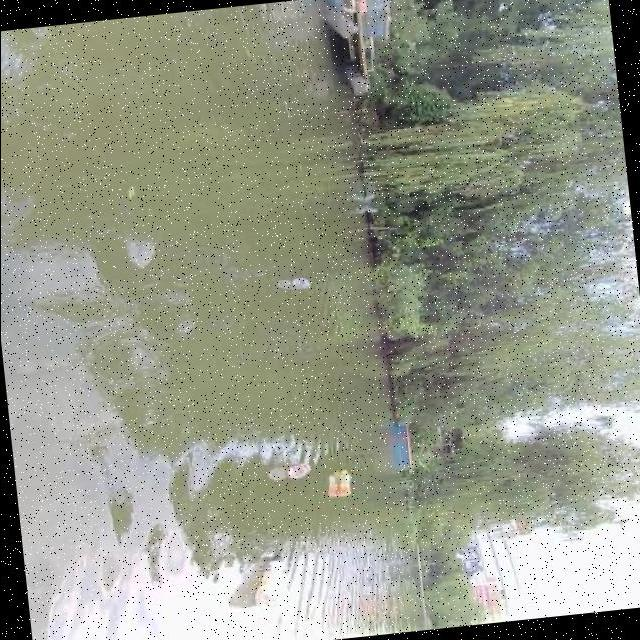Bottle: (325, 468, 359, 502), (281, 268, 315, 296), (280, 460, 316, 482)
